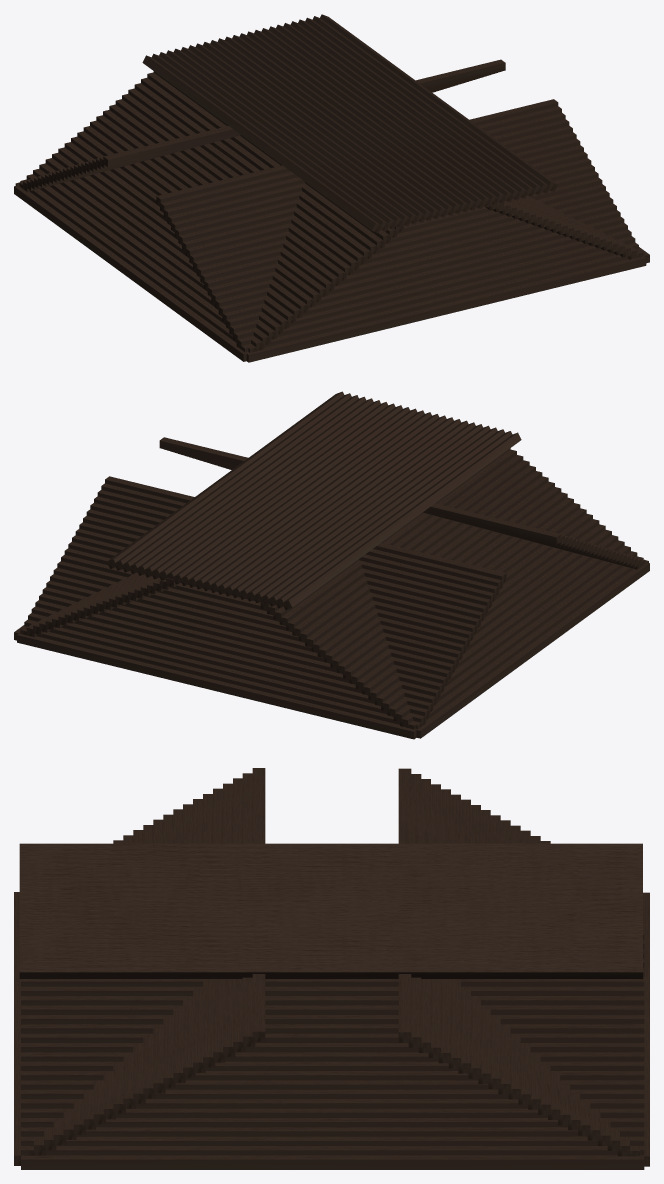
File: roof.fbx
The picture shows the model from 3 angles, top to bottom: view 1: azimuth 30°, elevation 25°; view 2: azimuth 150°, elevation 25°; view 3: azimuth 270°, elevation 25°; orthographic projection. The views are drawn at different scales.
Parts seen in each view (by area): view 1: Cube.015, Cube.023, Cube.017, Cube.016, Cube.018; view 2: Cube.016, Cube.023, Cube.017, Cube.015, Cube.018; view 3: Cube.018, Cube.023, Cube.015, Cube.016.
Boxes of the visible parts, bbox=[...] form: Cube.015: bbox=[156, 99, 646, 362]; Cube.023: bbox=[142, 14, 557, 233]; Cube.017: bbox=[14, 71, 403, 361]; Cube.016: bbox=[15, 59, 505, 191]; Cube.018: bbox=[485, 196, 649, 263]; Cube.016: bbox=[17, 476, 506, 739]; Cube.023: bbox=[107, 391, 521, 610]; Cube.017: bbox=[260, 448, 649, 738]; Cube.015: bbox=[159, 437, 648, 569]; Cube.018: bbox=[14, 572, 179, 640]; Cube.018: bbox=[21, 929, 644, 1169]; Cube.023: bbox=[19, 843, 642, 978]; Cube.015: bbox=[14, 768, 265, 1165]; Cube.016: bbox=[398, 768, 649, 1166].
Size of the model in its own units: 3443 by 860 by 3433.
